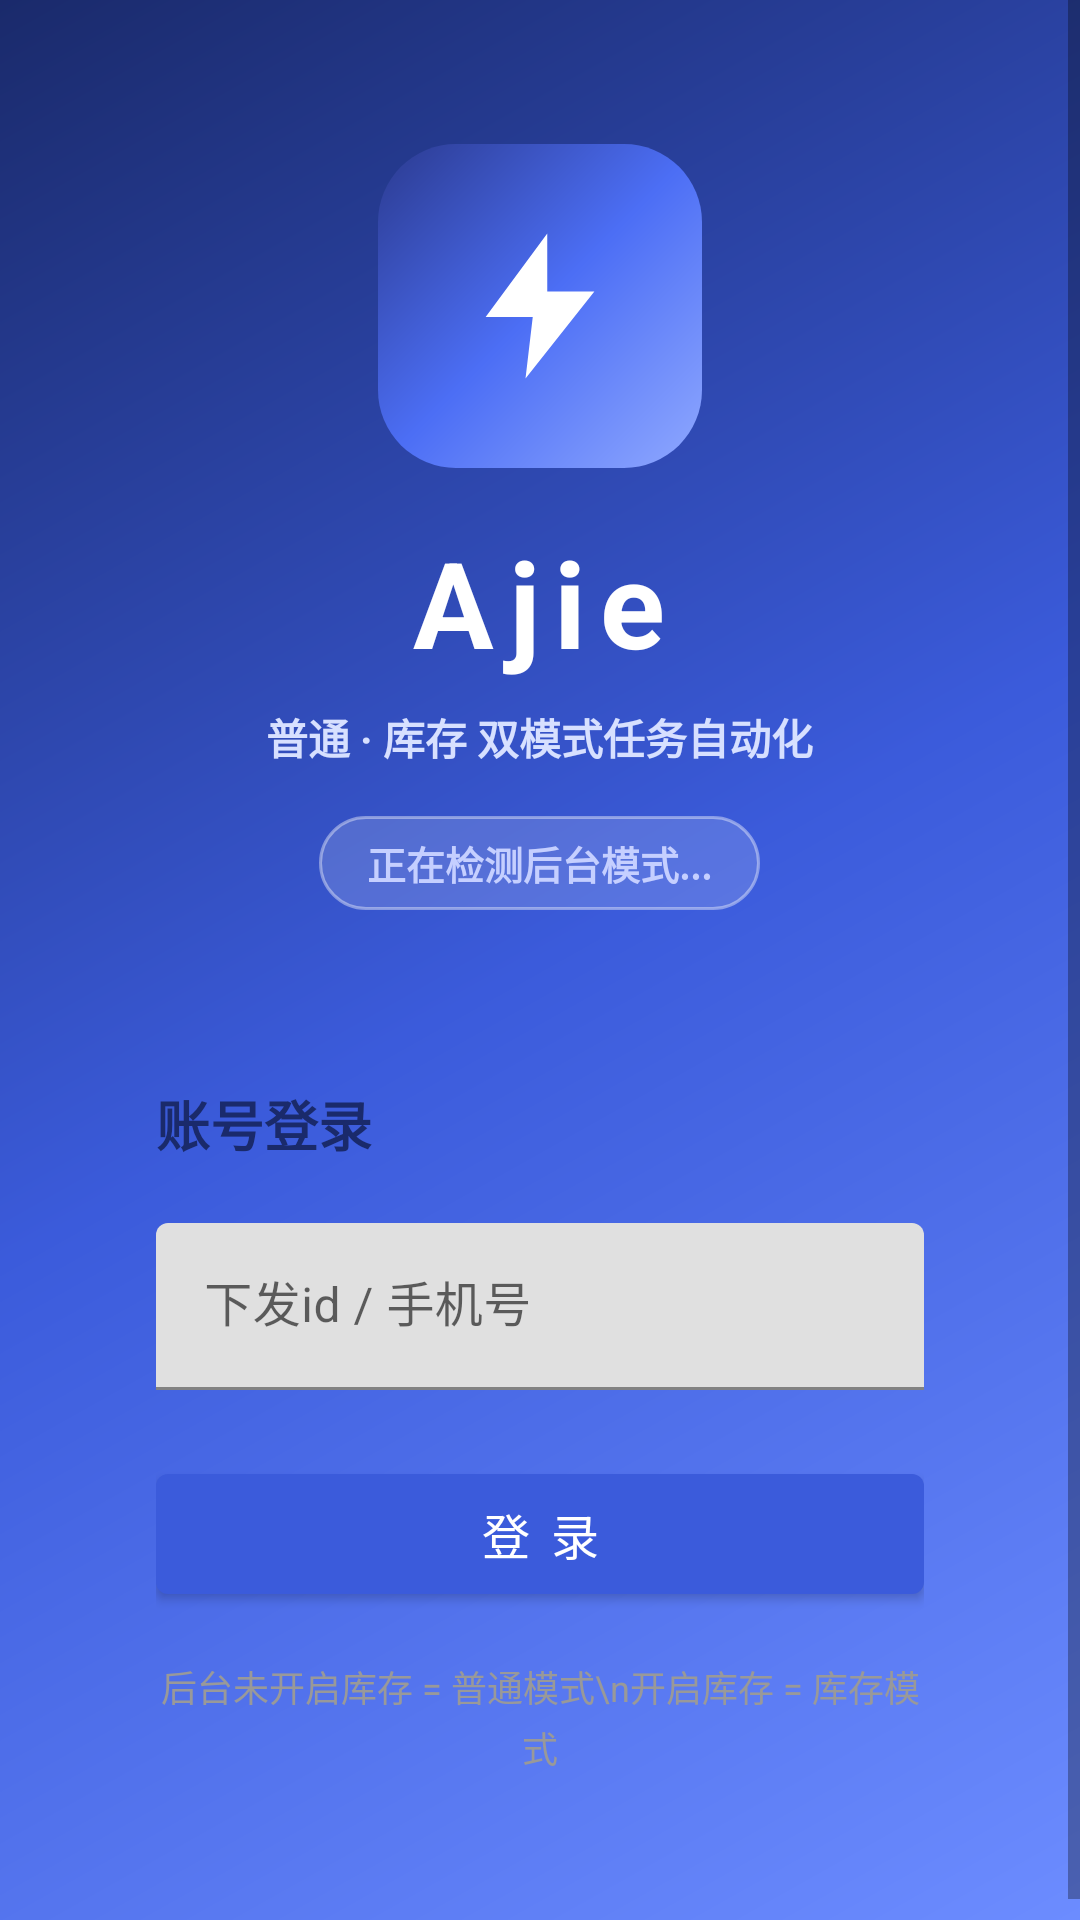

Icon bounding boxes for this 1080px x 1920px phone screenshot, format Rect(x1, y1, x2, y2):
bolt: Rect(453, 219, 627, 393)
